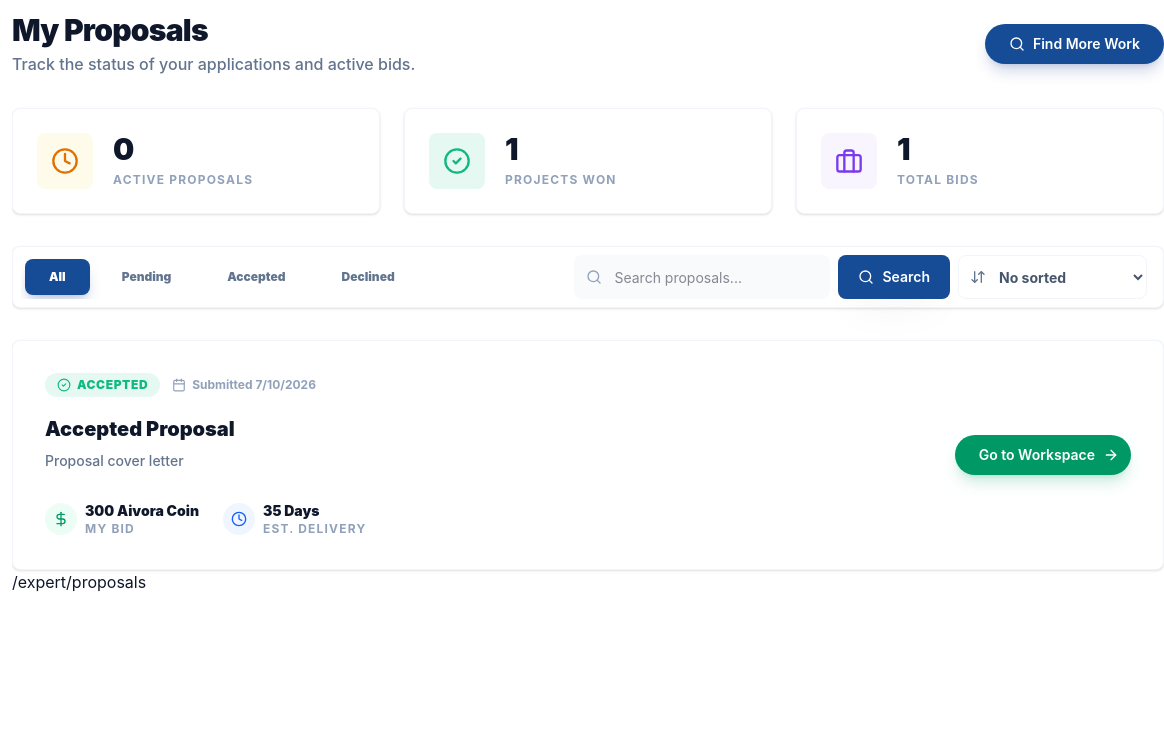
Scenario: ExpertMyProposalsPage › Title navigation › keeps Go to Workspace as the independent workspace action
Click the link "Go to Workspace" at point(1043, 455), box top-left (955, 435), bottom-right (1131, 475)
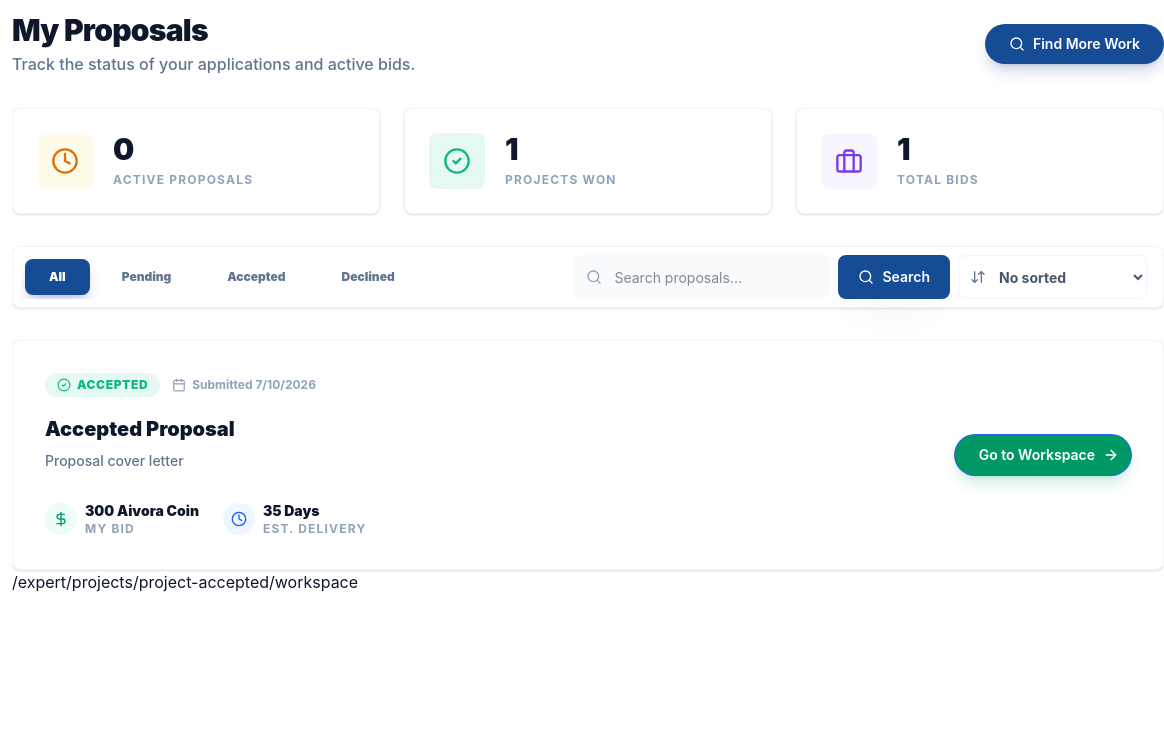
expect the text named "current path" reads "/expert/projects/project-accepted/workspace": met, box top-left (12, 572), bottom-right (358, 592)
